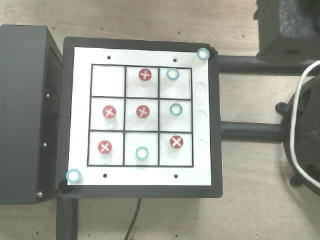blue circle: (136, 146, 149, 161), (170, 103, 182, 115), (197, 48, 210, 59), (167, 68, 179, 79), (69, 173, 77, 179)
board: (65, 44, 213, 186)
cells: (89, 132, 122, 164), (160, 133, 192, 165), (125, 133, 157, 165), (125, 99, 157, 130), (91, 98, 123, 129), (92, 65, 124, 96), (160, 100, 190, 131), (160, 68, 190, 98), (127, 67, 157, 97)
grid: (87, 64, 193, 167)
red cross: (98, 140, 111, 153), (136, 105, 149, 117), (103, 105, 115, 118), (170, 136, 183, 148), (139, 68, 151, 80)
